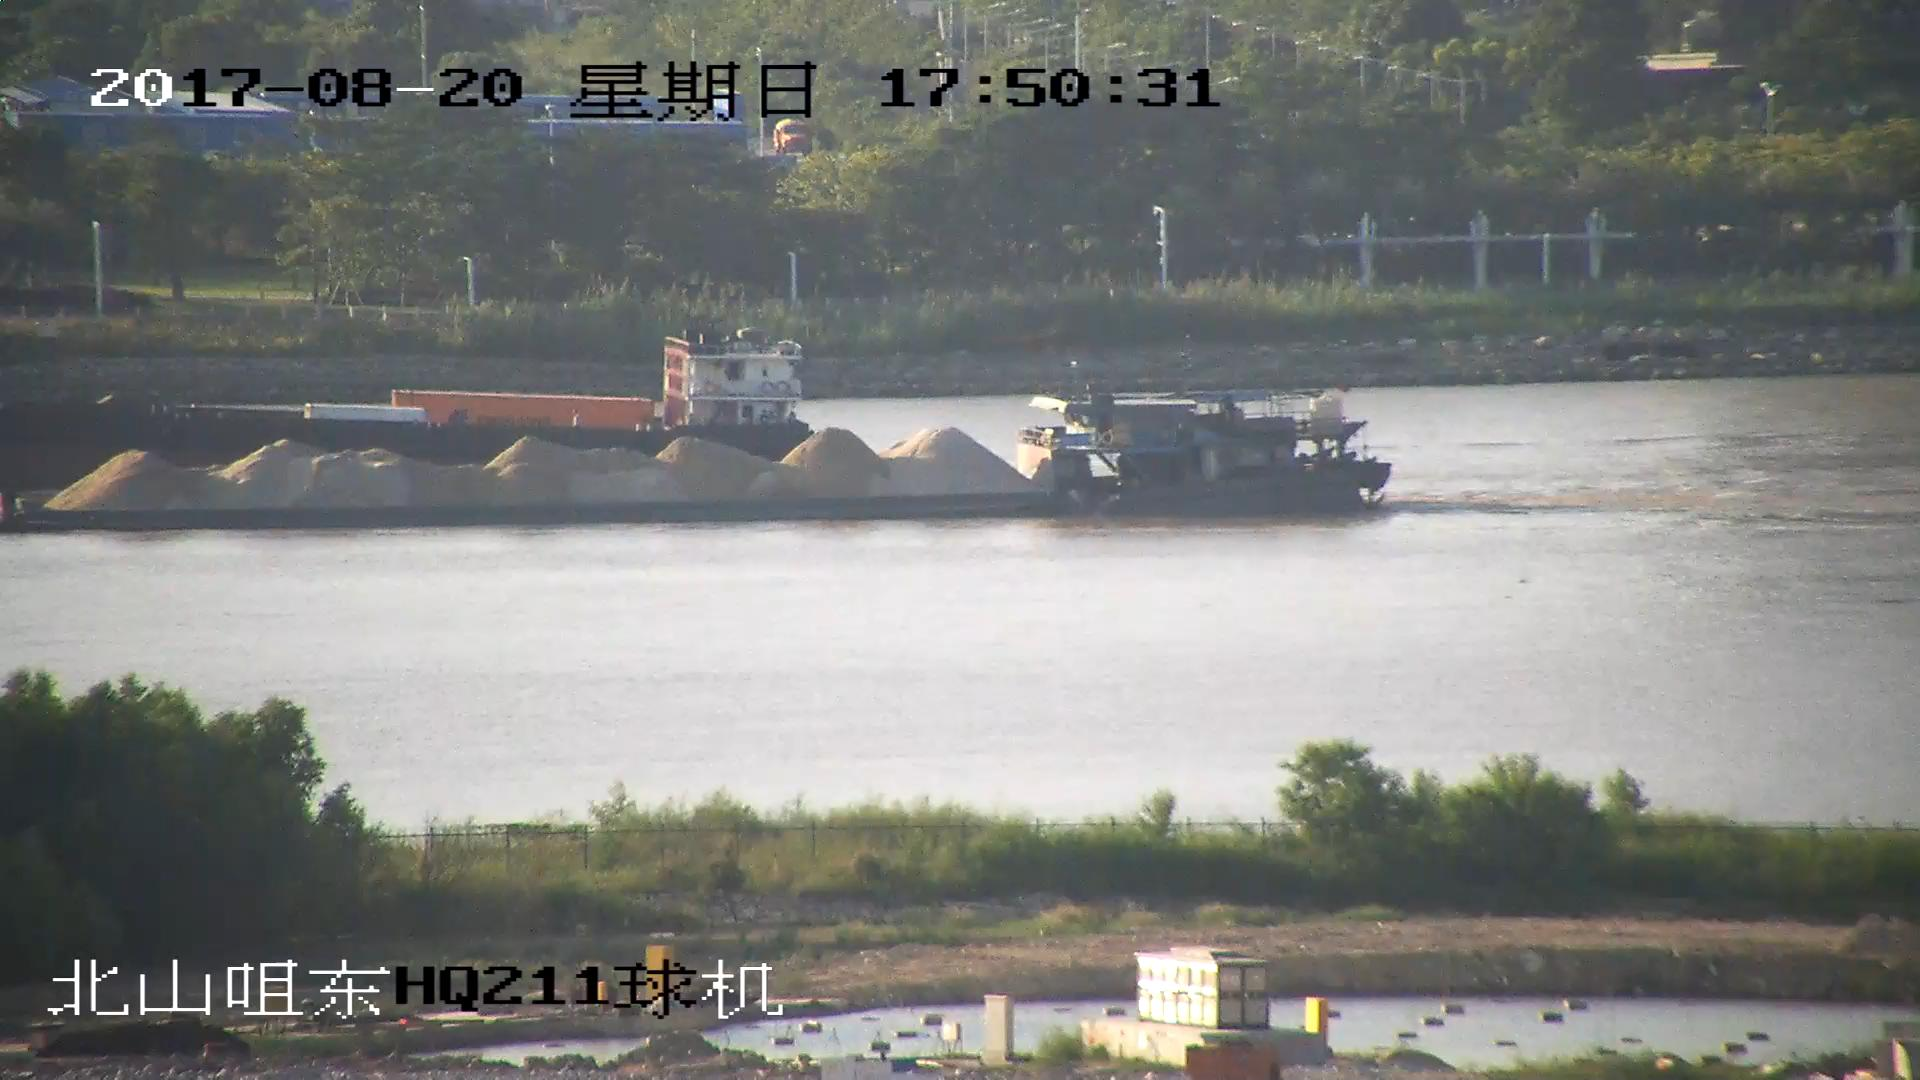general cargo ship: (1, 328, 827, 486)
ore carrier: (1, 383, 1387, 531)
